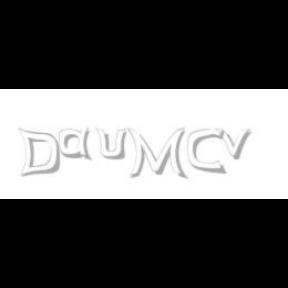C: (188, 128, 224, 174)
D: (17, 128, 60, 178)
M: (126, 128, 186, 180)
a: (60, 128, 96, 160)
u: (96, 128, 130, 160)
v: (215, 128, 255, 160)
